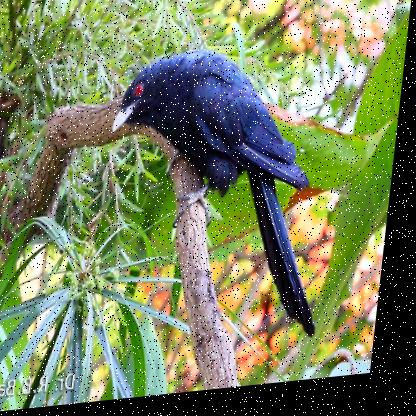Burung: (96, 40, 350, 364)
